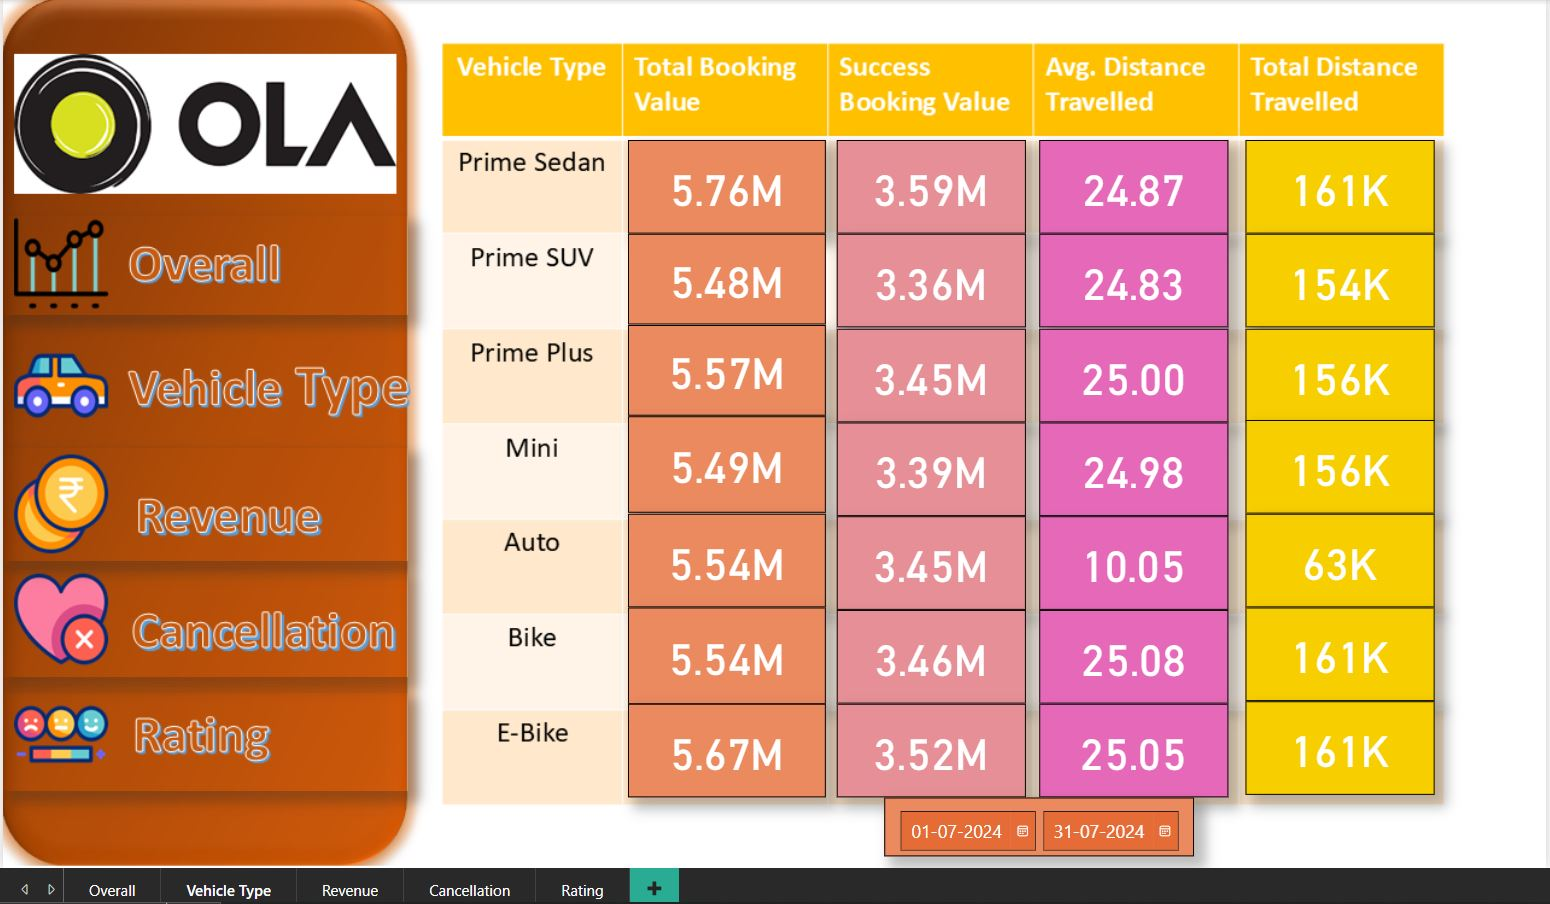

Layout of this report page (visuals, bound fields, positions):
{"tool":"powerbi","page":{"name":"Vehicle Type","canvas":[1280,720],"ordinal":1},"visuals":[{"type":"actionButton","box":[0,370.9,335.7,94.1],"z":0},{"type":"actionButton","box":[0,473,335.7,88.5],"z":1000},{"type":"actionButton","box":[0,573.9,335.7,81.7],"z":2000},{"type":"actionButton","box":[0,179.2,335.7,81.7],"z":3000},{"type":"card","fields":{"Values":["Sum(Booking.Booking_Value)"]},"box":[518.6,116.3,164,77.9],"z":4000},{"type":"card","fields":{"Values":["Sum(Booking.Booking_Value)"]},"box":[518.6,269.8,164,75.6],"z":5000},{"type":"card","fields":{"Values":["Sum(Booking.Booking_Value)"]},"box":[518.6,345.3,164,80.2],"z":6000},{"type":"card","fields":{"Values":["Sum(Booking.Booking_Value)"]},"box":[518.6,425.6,164,77.9],"z":7000},{"type":"card","fields":{"Values":["Sum(Booking.Booking_Value)"]},"box":[518.6,503.5,164,80.2],"z":8000},{"type":"card","fields":{"Values":["Sum(Booking.Booking_Value)"]},"box":[518.6,583.7,164,77.9],"z":9000},{"type":"card","fields":{"Values":["Sum(Booking.Booking_Value)"]},"box":[518.6,194.2,164,75.6],"z":10000},{"type":"card","fields":{"Values":["Sum(Booking.Booking_Value)"]},"box":[690.7,116.3,157,77.9],"z":11000},{"type":"card","fields":{"Values":["Sum(Booking.Booking_Value)"]},"box":[690.7,194.2,157,77.9],"z":12000},{"type":"card","fields":{"Values":["Sum(Booking.Booking_Value)"]},"box":[690.7,272.1,157,77.9],"z":13000},{"type":"card","fields":{"Values":["Sum(Booking.Booking_Value)"]},"box":[690.7,350,157,77.9],"z":14000},{"type":"card","fields":{"Values":["Sum(Booking.Booking_Value)"]},"box":[690.7,427.9,157,77.9],"z":15000},{"type":"card","fields":{"Values":["Sum(Booking.Booking_Value)"]},"box":[690.7,505.8,157,77.9],"z":16000},{"type":"card","fields":{"Values":["Sum(Booking.Booking_Value)"]},"box":[690.7,583.7,157,77.9],"z":17000},{"type":"card","fields":{"Values":["Avg(Booking.Ride_Distance)"]},"box":[859.3,116.3,157,77.9],"z":18000},{"type":"card","fields":{"Values":["Avg(Booking.Ride_Distance)"]},"box":[859.3,194.2,157,77.9],"z":19000},{"type":"card","fields":{"Values":["Avg(Booking.Ride_Distance)"]},"box":[859.3,272.1,157,77.9],"z":20000},{"type":"card","fields":{"Values":["Avg(Booking.Ride_Distance)"]},"box":[859.3,350,157,77.9],"z":21000},{"type":"card","fields":{"Values":["Avg(Booking.Ride_Distance)"]},"box":[859.3,427.9,157,77.9],"z":22000},{"type":"card","fields":{"Values":["Avg(Booking.Ride_Distance)"]},"box":[859.3,505.8,157,77.9],"z":23000},{"type":"card","fields":{"Values":["Avg(Booking.Ride_Distance)"]},"box":[859.3,583.7,157,77.9],"z":24000},{"type":"card","fields":{"Values":["Sum(Booking.Ride_Distance)"]},"box":[1030.2,116.3,157,77.9],"z":25000},{"type":"card","fields":{"Values":["Sum(Booking.Ride_Distance)"]},"box":[1030.2,194.2,157,77.9],"z":26000},{"type":"card","fields":{"Values":["Sum(Booking.Ride_Distance)"]},"box":[1030.2,272.1,157,77.9],"z":27000},{"type":"card","fields":{"Values":["Sum(Booking.Ride_Distance)"]},"box":[1030.2,347.7,157,77.9],"z":28000},{"type":"card","fields":{"Values":["Sum(Booking.Ride_Distance)"]},"box":[1030.2,425.6,157,77.9],"z":29000},{"type":"card","fields":{"Values":["Sum(Booking.Ride_Distance)"]},"box":[1030.2,503.5,157,77.9],"z":30000},{"type":"card","fields":{"Values":["Sum(Booking.Ride_Distance)"]},"box":[1030.2,581.4,157,77.9],"z":31000},{"type":"slicer","title":"Date","fields":{"Values":["Booking.Date"]},"box":[730.2,661.6,257,48.8],"z":32000}]}

Visuals, with their boxes on the page's 1280x720 design canvas (x1, y1, x2, y2). These are canvas units, not pixel positions in the 1550x904 screenshot, which may show the page scaled, cropped or inside an application window:
actionButton: (0, 371, 336, 465)
actionButton: (0, 473, 336, 562)
actionButton: (0, 574, 336, 656)
actionButton: (0, 179, 336, 261)
card - Sum(Booking.Booking_Value): (519, 116, 683, 194)
card - Sum(Booking.Booking_Value): (519, 270, 683, 345)
card - Sum(Booking.Booking_Value): (519, 345, 683, 426)
card - Sum(Booking.Booking_Value): (519, 426, 683, 504)
card - Sum(Booking.Booking_Value): (519, 504, 683, 584)
card - Sum(Booking.Booking_Value): (519, 584, 683, 662)
card - Sum(Booking.Booking_Value): (519, 194, 683, 270)
card - Sum(Booking.Booking_Value): (691, 116, 848, 194)
card - Sum(Booking.Booking_Value): (691, 194, 848, 272)
card - Sum(Booking.Booking_Value): (691, 272, 848, 350)
card - Sum(Booking.Booking_Value): (691, 350, 848, 428)
card - Sum(Booking.Booking_Value): (691, 428, 848, 506)
card - Sum(Booking.Booking_Value): (691, 506, 848, 584)
card - Sum(Booking.Booking_Value): (691, 584, 848, 662)
card - Avg(Booking.Ride_Distance): (859, 116, 1016, 194)
card - Avg(Booking.Ride_Distance): (859, 194, 1016, 272)
card - Avg(Booking.Ride_Distance): (859, 272, 1016, 350)
card - Avg(Booking.Ride_Distance): (859, 350, 1016, 428)
card - Avg(Booking.Ride_Distance): (859, 428, 1016, 506)
card - Avg(Booking.Ride_Distance): (859, 506, 1016, 584)
card - Avg(Booking.Ride_Distance): (859, 584, 1016, 662)
card - Sum(Booking.Ride_Distance): (1030, 116, 1187, 194)
card - Sum(Booking.Ride_Distance): (1030, 194, 1187, 272)
card - Sum(Booking.Ride_Distance): (1030, 272, 1187, 350)
card - Sum(Booking.Ride_Distance): (1030, 348, 1187, 426)
card - Sum(Booking.Ride_Distance): (1030, 426, 1187, 504)
card - Sum(Booking.Ride_Distance): (1030, 504, 1187, 581)
card - Sum(Booking.Ride_Distance): (1030, 581, 1187, 659)
"Date" slicer: (730, 662, 987, 710)
